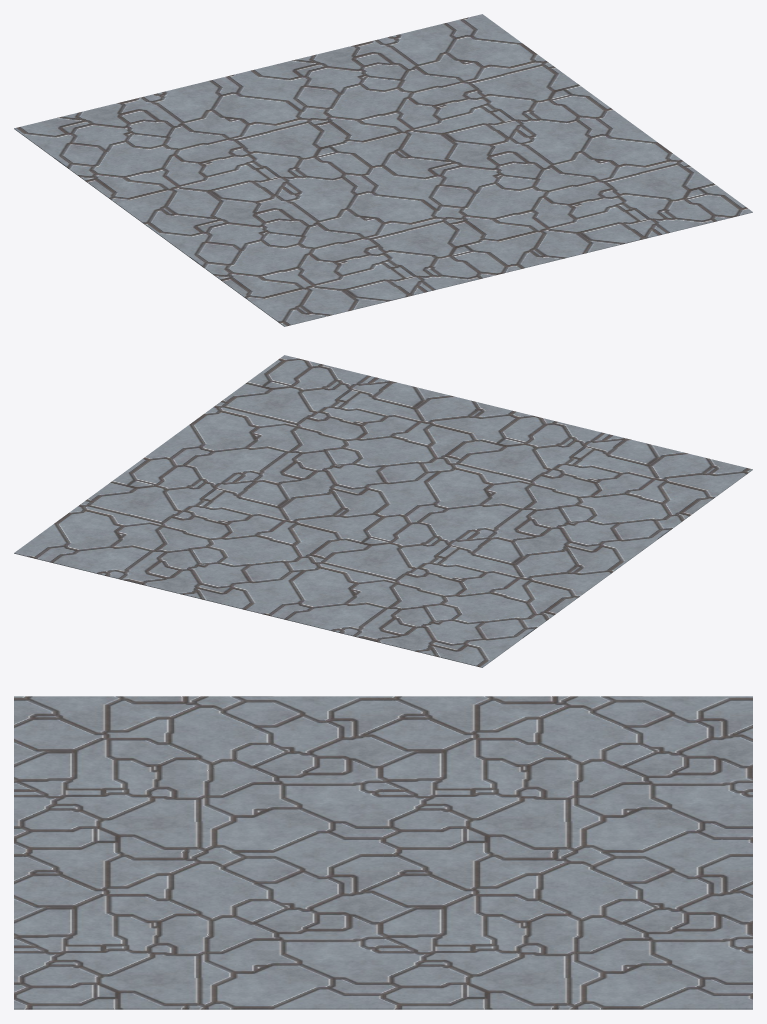
The model's file is floorbase.glb.
3 renders of one model, top to bottom at view 1: azimuth 30°, elevation 25°; view 2: azimuth 150°, elevation 25°; view 3: azimuth 270°, elevation 25°, orthographic. The views are drawn at different scales.
Parts seen in each view (by area): view 1: FloorBase; view 2: FloorBase; view 3: FloorBase.
Part boxes in pixels (x1,y1,x2,y2): FloorBase: [14, 14, 752, 326]; FloorBase: [14, 355, 752, 667]; FloorBase: [14, 696, 752, 1009].
Bounding box in the file's own units: 16 × 0.0191 × 16.
1 material, 1 textured.
